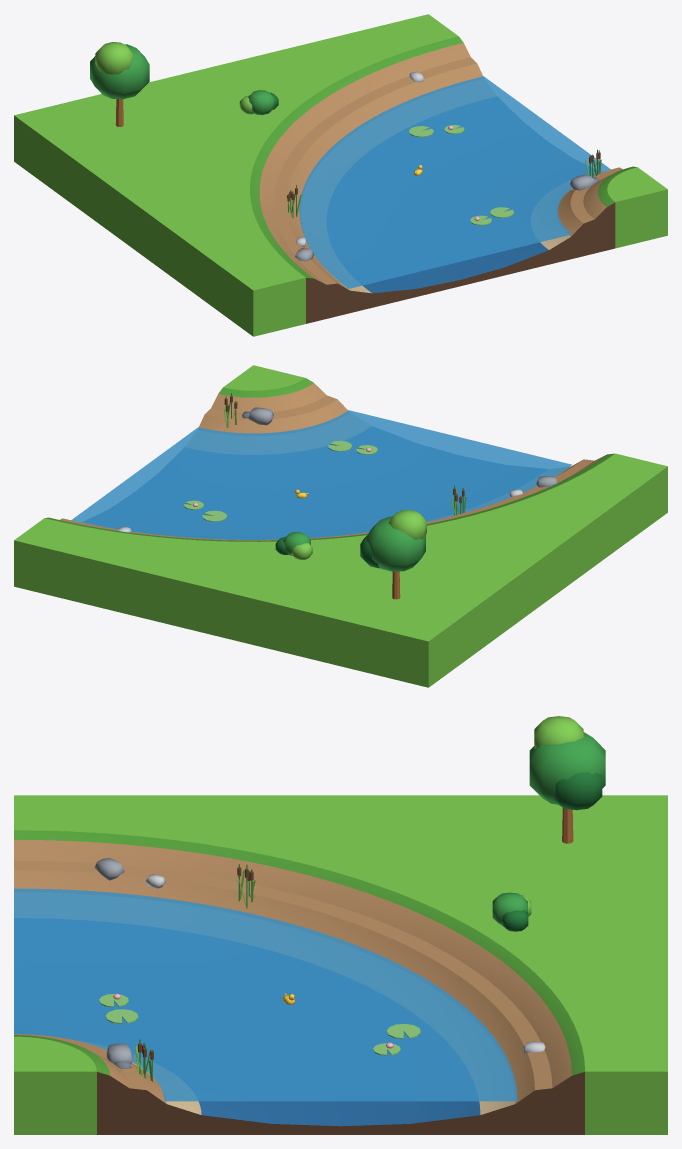
The model's file is rio_curva.glb.
The picture shows the model from 3 angles, top to bottom: view 1: azimuth 30°, elevation 25°; view 2: azimuth 150°, elevation 25°; view 3: azimuth 270°, elevation 25°; orthographic projection. The views are drawn at different scales.
Visible parts, largest first — view 1: rio_curva; view 2: rio_curva; view 3: rio_curva.
Part boxes in pixels (x1,y1,x2,y2): rio_curva: (14, 14, 667, 336); rio_curva: (14, 365, 667, 687); rio_curva: (14, 716, 667, 1134).
Bounding box in the file's own units: 15 × 4.53 × 15.
Materials: 2 (1 with a texture image).
